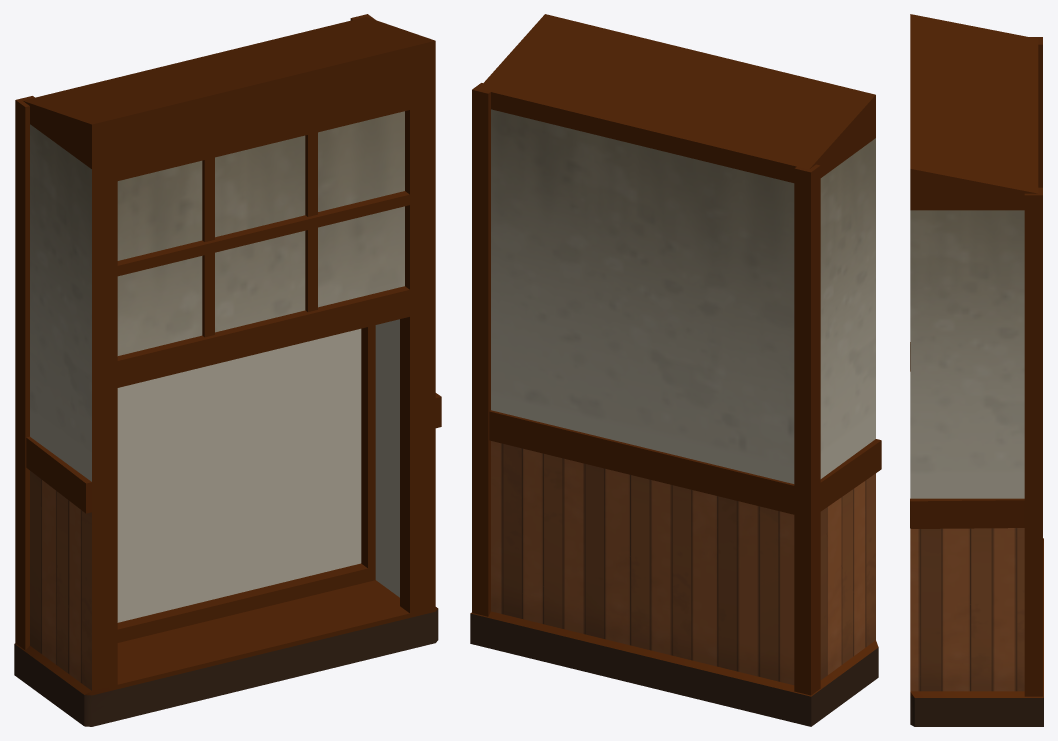
The model's file is Bld_Dojo_Wall_Center.fbx.
3 renders of one model, left to right at view 1: azimuth 30°, elevation 25°; view 2: azimuth 150°, elevation 25°; view 3: azimuth 270°, elevation 25°, orthographic. The views are drawn at different scales.
Visible parts, largest first — view 1: Bld_Dojo_Wall_Center; view 2: Bld_Dojo_Wall_Center; view 3: Bld_Dojo_Wall_Center.
Part boxes in pixels (x1=…): Bld_Dojo_Wall_Center: x1=14, y1=14, x2=441, y2=726; Bld_Dojo_Wall_Center: x1=470, y1=14, x2=881, y2=726; Bld_Dojo_Wall_Center: x1=910, y1=14, x2=1043, y2=726.
Size of the model in its own units: 414 by 670 by 146.
